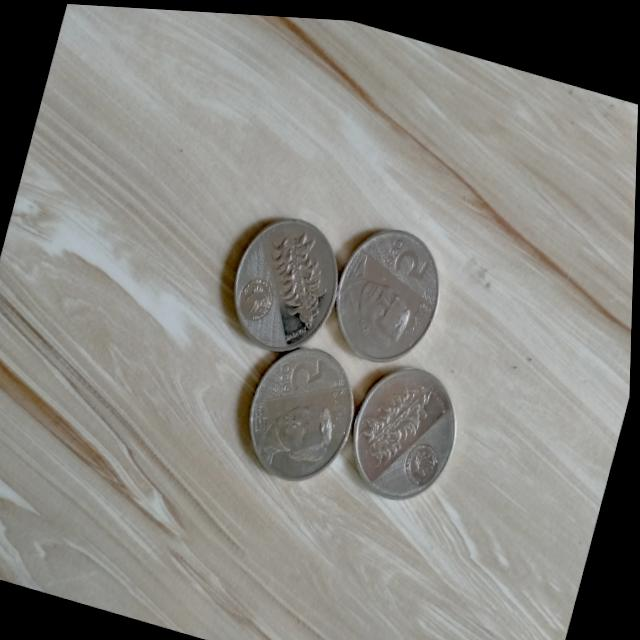5_New_Back: (349, 349, 445, 478), (255, 207, 348, 333)
5_New_Front: (265, 325, 341, 408), (372, 209, 447, 285)
